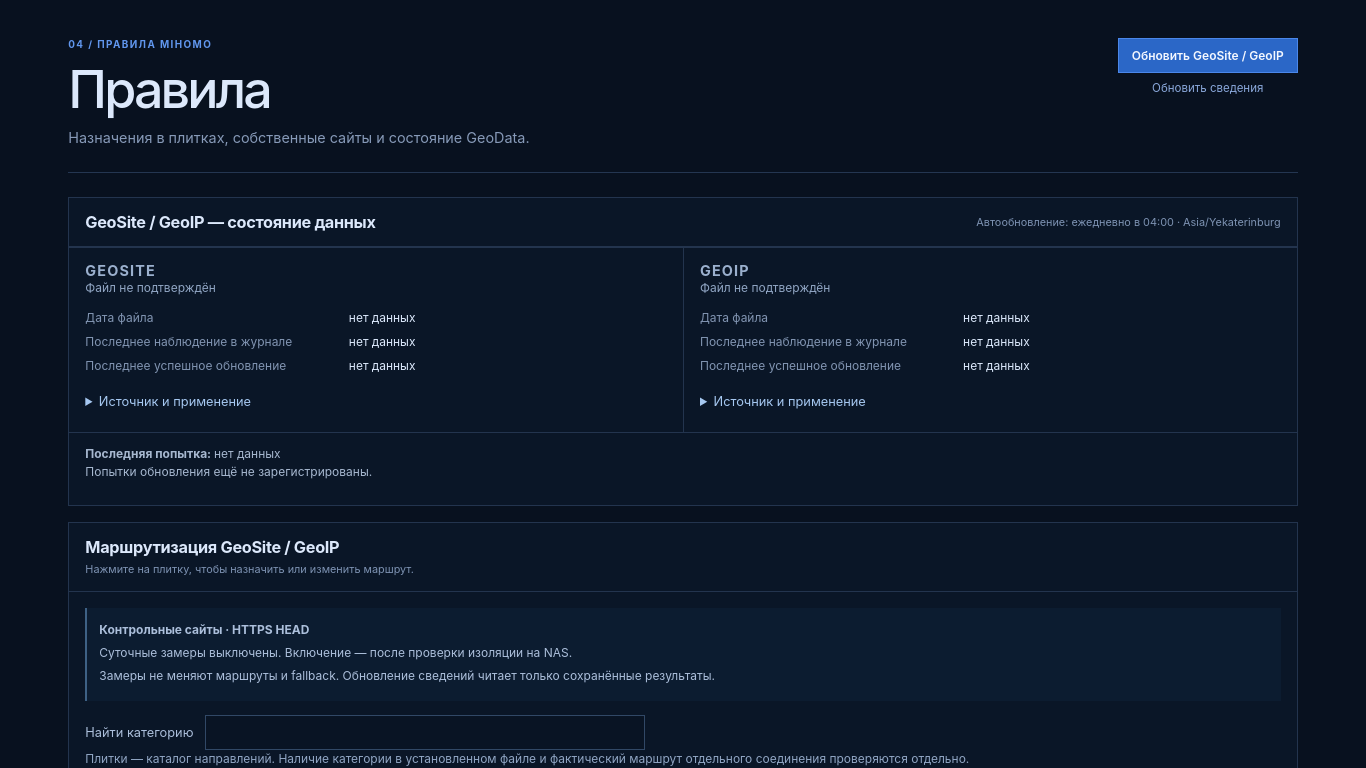
Test: RulesPage › обновляет GeoSite и GeoIP прямо из раздела правил и объясняет GeoIP-категории
The image size is (1366, 768).
Click the button "Обновить GeoSite / GeoIP".
click(1208, 56)  # box [1118,38,1298,73]
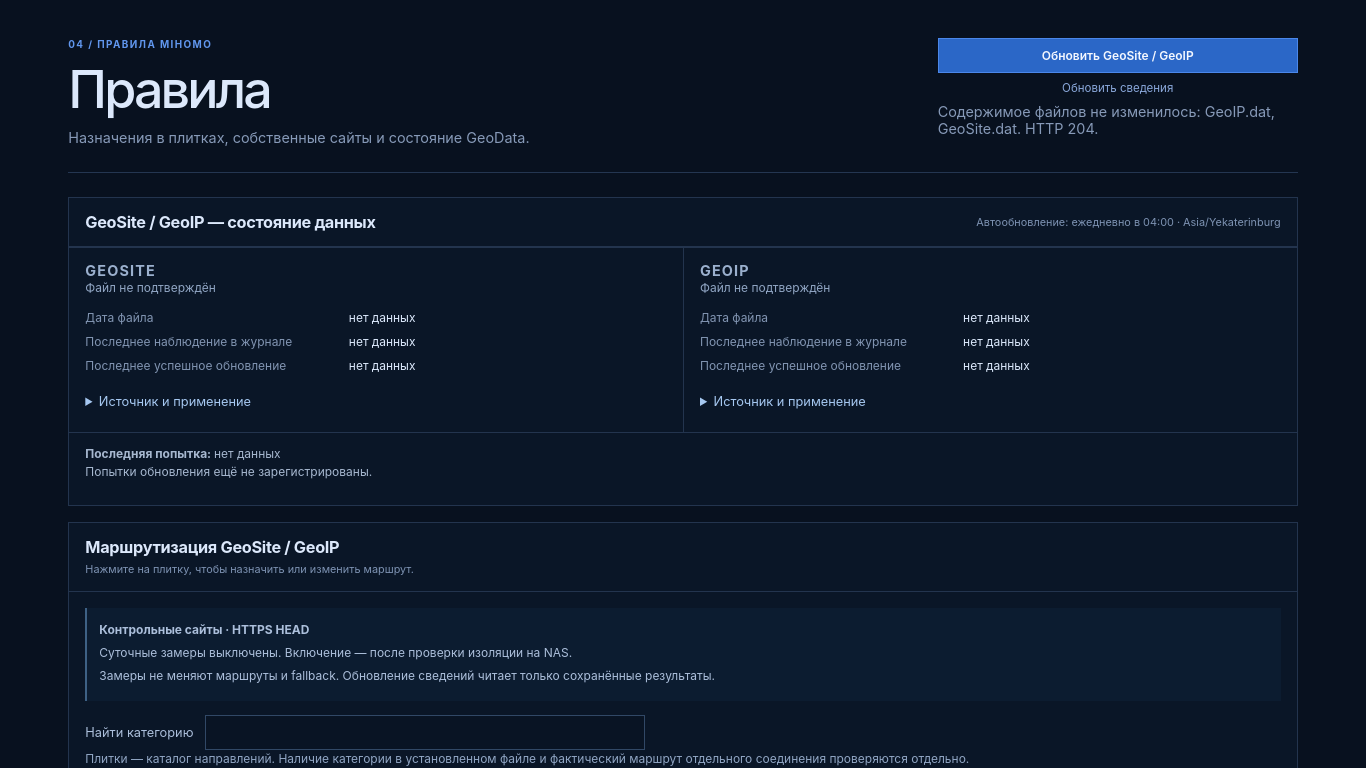
Result: the text "Содержимое файлов не изменилось: GeoIP.dat, GeoSite.dat. HTTP 204." is shown at [938,103,1298,137]
